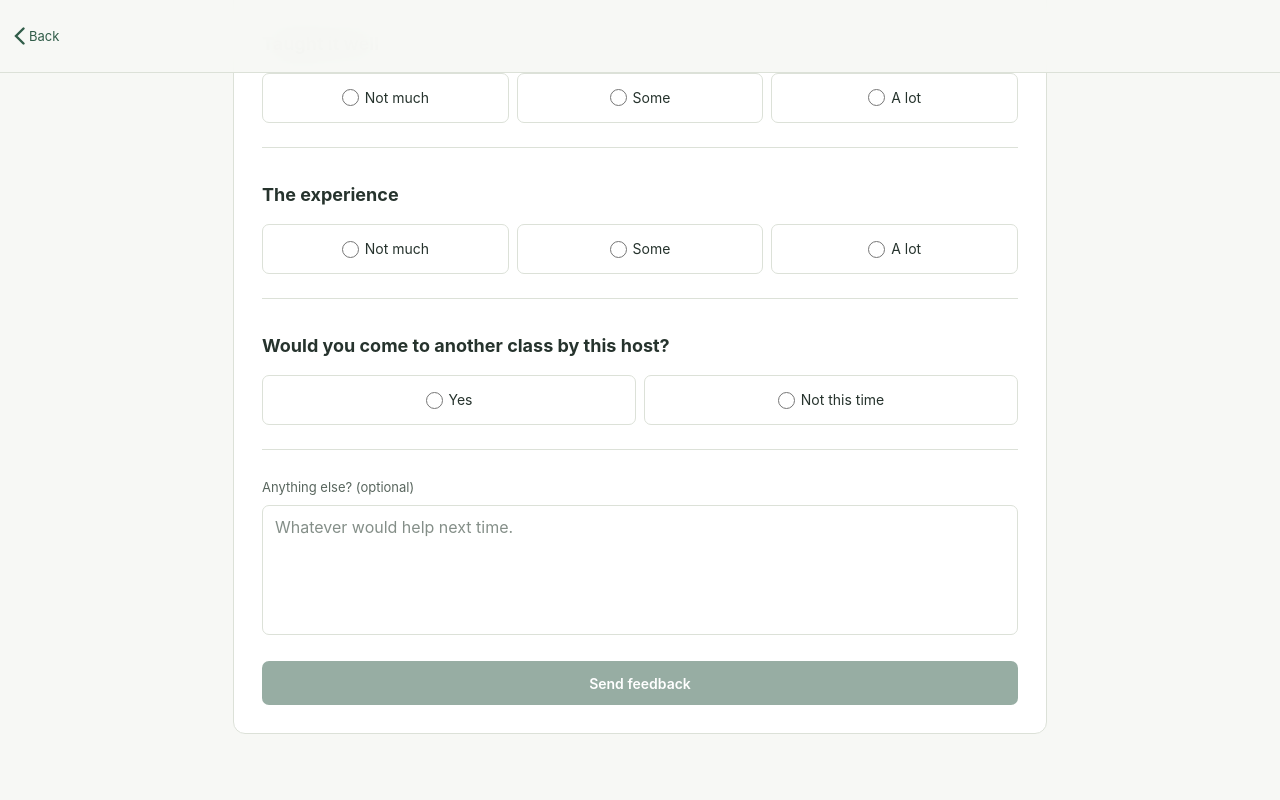
Test case: FeedbackScreen › shows the server's 403 message when the viewer was not checked off as attending
The image size is (1280, 800).
(page scrolled)
Click the radio button labelled "Yes" at (434, 400), box [426,392,442,409]
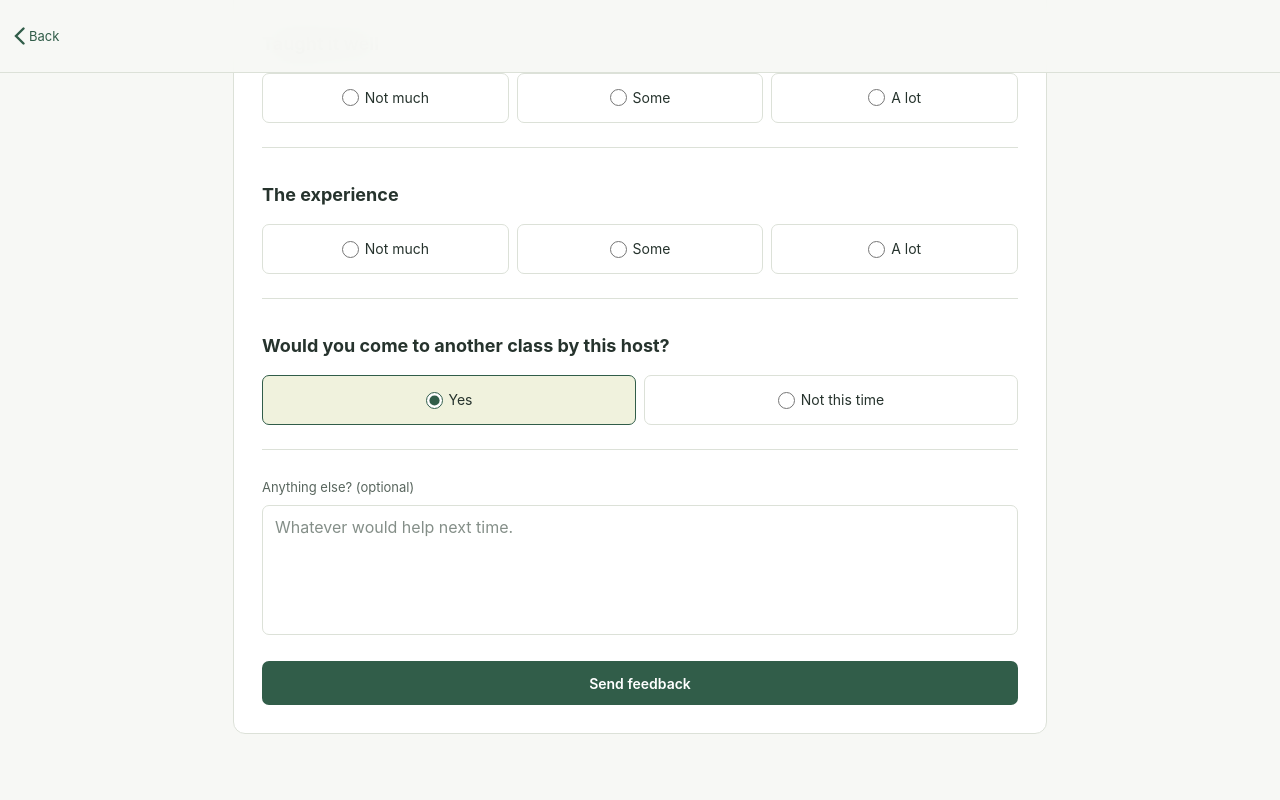
Click the button "Send feedback" at (640, 684), box [262,662,1018,706]
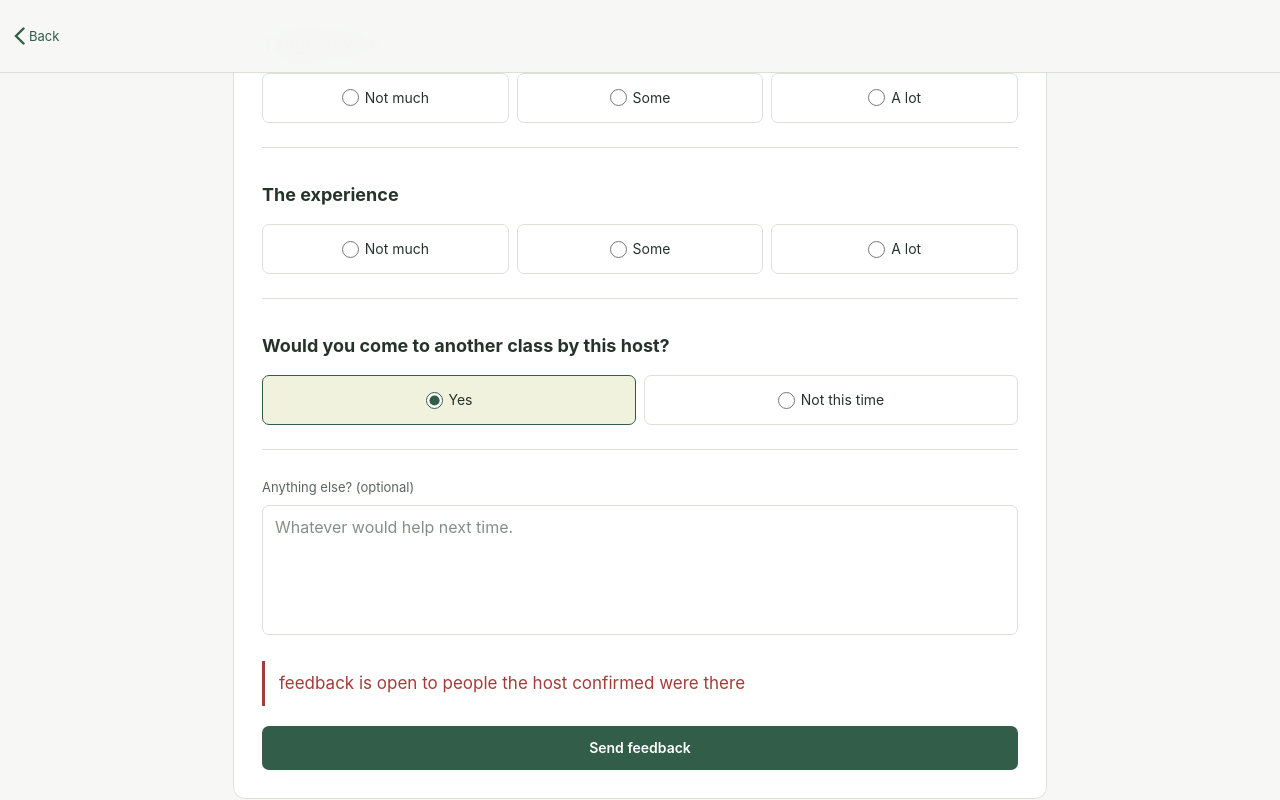
Expected: the message reads "feedback is open to people the host confirmed were there", [279,674,745,694]
